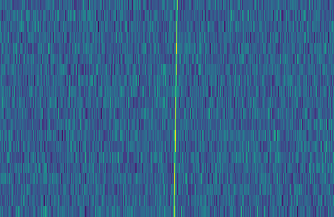signal: (169, 0, 181, 217)
